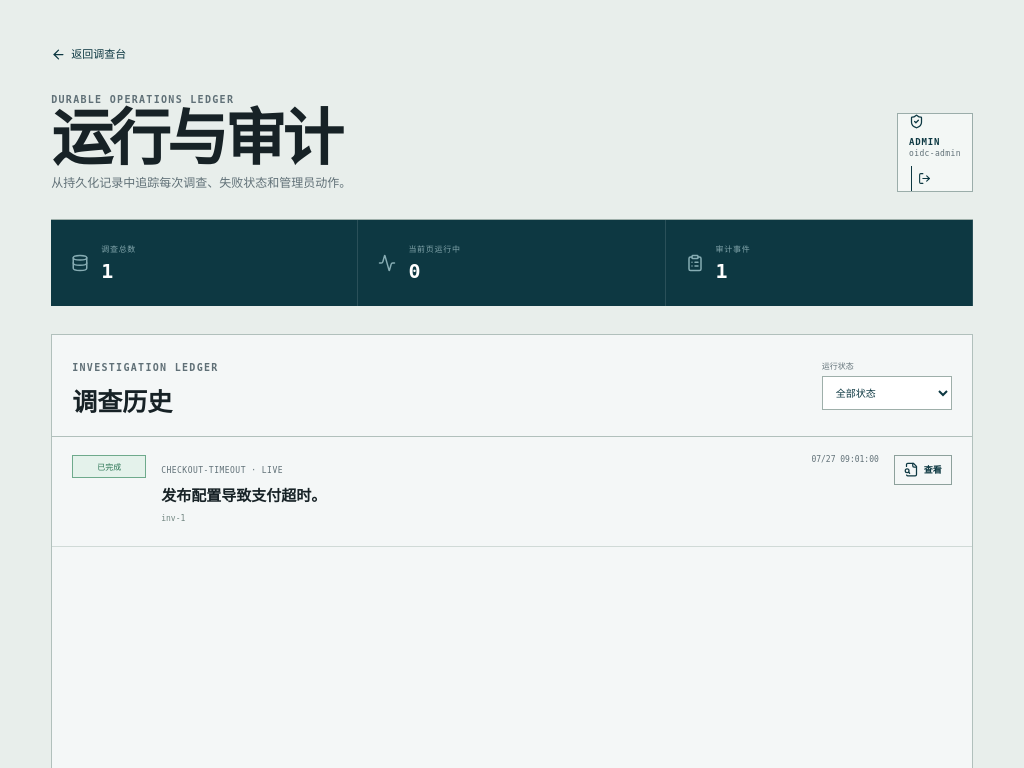
Test case: OperationsConsole › renders explicit empty states for incomplete report sections
Click the button with aria-label "打开报告 inv-1" at (923,470), box [894,455,952,485]
(page scrolled)
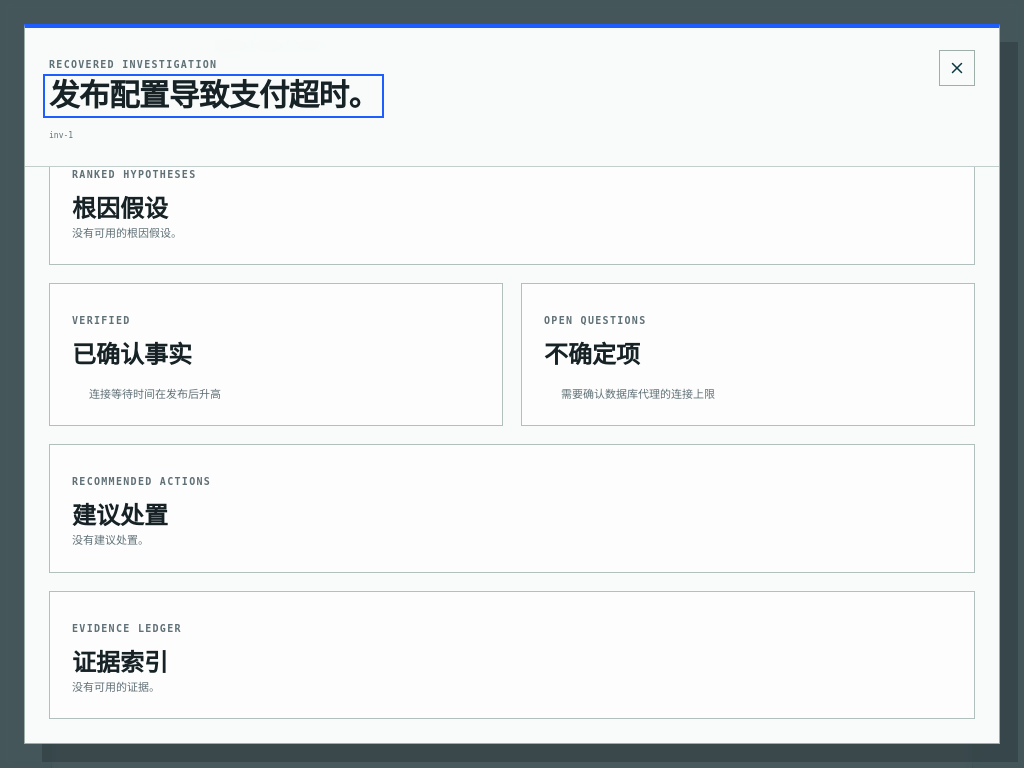
Now the text "没有可用的根因假设。" is shown, box [72,225,182,240]
Now the text "没有建议处置。" is shown, box [72,532,149,547]
Now the text "没有可用的证据。" is shown, box [72,678,160,694]
